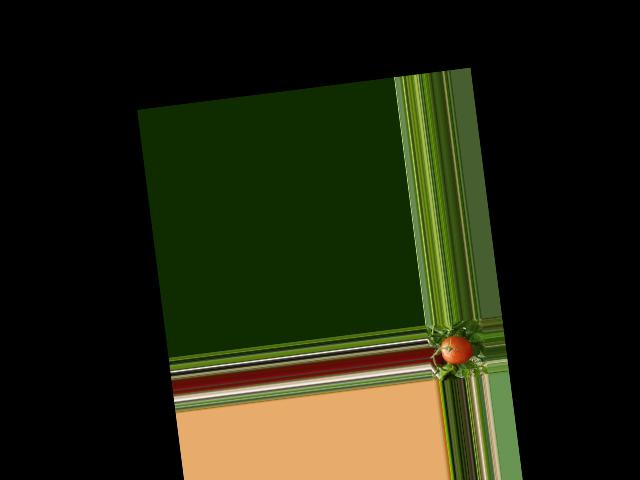tomato: (439, 333, 473, 365)
